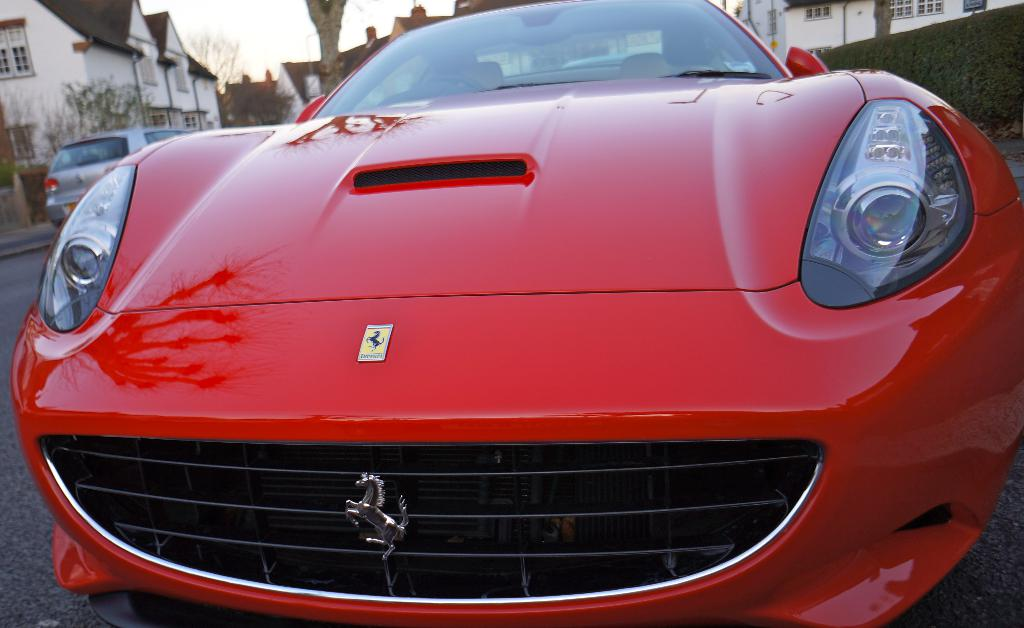Tree: (179, 31, 244, 126), (304, 0, 345, 96), (222, 73, 294, 125), (874, 0, 893, 37), (732, 0, 743, 18)
